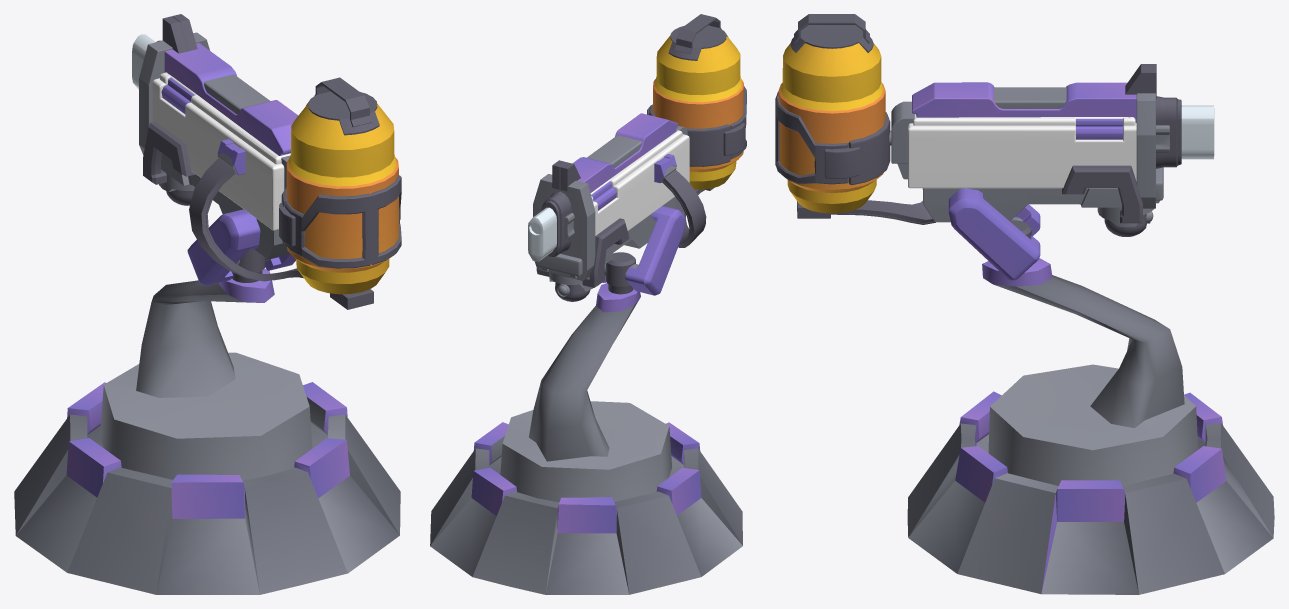
Rendered from Sci_Fi_Gun_05.fbx.
3 views of the same model, side by side, from view 1: azimuth 30°, elevation 25°; view 2: azimuth 150°, elevation 25°; view 3: azimuth 270°, elevation 25° (orthographic). The views are drawn at different scales.
Visible parts, largest first — view 1: __PrenotatoPerDuplicare_011, polySurface2, Base, Cresta, Cilindro2, Gancho, sweep1, SoporteCamara, Protector, SoporteBase, BaseManijaCilindro, ParteCresta (+8 smaller); view 2: __PrenotatoPerDuplicare_011, polySurface2, Base, Gancho, Protector, Cresta, sweep1, PlacaCilindro_01, SoporteCamara, Boolean_Canon, BaseManijaCilindro, EjeCentra (+7 smaller); view 3: __PrenotatoPerDuplicare_011, Base, polySurface2, Cresta, Gancho, SoporteBase, SoporteCamara, Protector, Cilindro2, Boolean_Canon, PlacaCilindro_01, BaseManijaCilindro (+8 smaller).
Part boxes in pixels (bbox=[...]): __PrenotatoPerDuplicare_011: bbox=[14, 268, 400, 594]; polySurface2: bbox=[286, 103, 398, 294]; Base: bbox=[152, 72, 290, 230]; Cresta: bbox=[164, 43, 298, 155]; Cilindro2: bbox=[285, 175, 401, 268]; Gancho: bbox=[187, 209, 296, 285]; sweep1: bbox=[189, 158, 303, 281]; SoporteCamara: bbox=[143, 121, 195, 184]; Protector: bbox=[139, 32, 209, 154]; SoporteBase: bbox=[161, 153, 289, 259]; BaseManijaCilindro: bbox=[306, 91, 379, 135]; ParteCresta: bbox=[204, 74, 270, 114]; __PrenotatoPerDuplicare_011: bbox=[430, 283, 742, 594]; polySurface2: bbox=[653, 35, 743, 189]; Base: bbox=[590, 130, 689, 235]; Gancho: bbox=[602, 206, 685, 295]; Protector: bbox=[533, 174, 595, 280]; Cresta: bbox=[572, 113, 678, 192]; sweep1: bbox=[662, 169, 706, 247]; PlacaCilindro_01: bbox=[649, 106, 730, 166]; SoporteCamara: bbox=[536, 218, 629, 287]; Boolean_Canon: bbox=[528, 207, 556, 261]; BaseManijaCilindro: bbox=[668, 25, 727, 60]; EjeCentra: bbox=[604, 252, 638, 294]; __PrenotatoPerDuplicare_011: bbox=[907, 258, 1274, 594]; Base: bbox=[908, 114, 1136, 188]; polySurface2: bbox=[778, 43, 885, 213]; Cresta: bbox=[912, 82, 1136, 122]; Gancho: bbox=[948, 188, 1040, 280]; SoporteBase: bbox=[922, 188, 1121, 222]; SoporteCamara: bbox=[1062, 165, 1142, 223]; Protector: bbox=[1136, 93, 1155, 208]; Cilindro2: bbox=[775, 92, 848, 184]; Boolean_Canon: bbox=[1181, 105, 1214, 159]; PlacaCilindro_01: bbox=[848, 112, 890, 184]; BaseManijaCilindro: bbox=[790, 25, 873, 52].
Bounding box in the file's own units: 147 × 221 × 200.
Materials: 1 (1 with a texture image).
